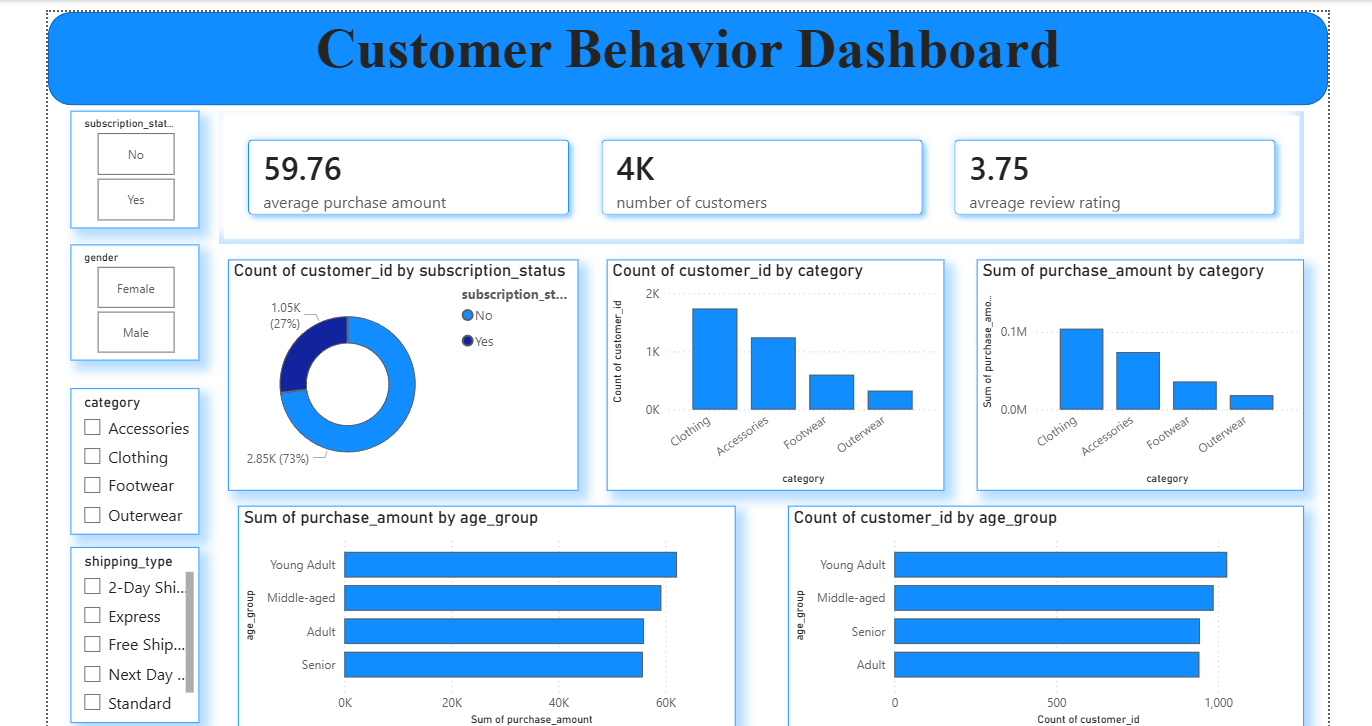

This screenshot's page, from the dashboard's own definition file:
{"tool":"powerbi","page":{"name":"Page 1","canvas":[1280,720],"ordinal":0},"visuals":[{"type":"cardVisual","fields":{"Data":["public customer.average purchase amount","public customer.number of customers","public customer.avreage review rating"]},"box":[171.2,98.8,1085,133.8],"z":0},{"type":"shape","box":[0,0,1280,93.3],"z":1000},{"type":"textbox","box":[0,0,1280,93.8],"z":2000},{"type":"donutChart","fields":{"Y":["CountNonNull(public customer.customer_id)"],"Category":["public customer.subscription_status"]},"box":[180,247.5,350,231.2],"z":3000},{"type":"clusteredColumnChart","fields":{"Category":["public customer.category"],"Y":["Sum(public customer.purchase_amount)"]},"box":[928.8,247.5,327.5,231.2],"z":4000},{"type":"clusteredColumnChart","fields":{"Category":["public customer.category"],"Y":["CountNonNull(public customer.customer_id)"]},"box":[558.8,247.5,337.5,231.2],"z":5000},{"type":"slicer","fields":{"Values":["public customer.subscription_status"]},"box":[22.5,98.8,128.8,117.5],"z":6000},{"type":"slicer","fields":{"Values":["public customer.gender"]},"box":[22.5,232.5,128.8,116.2],"z":7000},{"type":"slicer","fields":{"Values":["public customer.category"]},"box":[22.5,376.2,128.8,146.2],"z":8000},{"type":"slicer","fields":{"Values":["public customer.shipping_type"]},"box":[22.5,535,128.8,176.2],"z":9000},{"type":"clusteredBarChart","fields":{"Y":["Sum(public customer.purchase_amount)"],"Category":["public customer.age_group"]},"box":[190,493.8,497.5,226.2],"z":10000},{"type":"clusteredBarChart","fields":{"Category":["public customer.age_group"],"Y":["CountNonNull(public customer.customer_id)"]},"box":[740,493.8,516.2,226.2],"z":11000}]}

Visuals, with their boxes in screenshot pixels (x1, y1, x2, y2):
cardVisual - public customer.average purchase amount x public customer.number of customers: (220, 105, 1298, 238)
shape: (50, 7, 1322, 100)
textbox: (50, 7, 1322, 100)
donutChart - CountNonNull(public customer.customer_id) x public customer.subscription_status: (229, 253, 577, 483)
clusteredColumnChart - public customer.category x Sum(public customer.purchase_amount): (973, 253, 1298, 483)
clusteredColumnChart - public customer.category x CountNonNull(public customer.customer_id): (605, 253, 940, 483)
slicer - public customer.subscription_status: (72, 105, 200, 222)
slicer - public customer.gender: (72, 238, 200, 354)
slicer - public customer.category: (72, 381, 200, 526)
slicer - public customer.shipping_type: (72, 539, 200, 714)
clusteredBarChart - Sum(public customer.purchase_amount) x public customer.age_group: (239, 498, 733, 722)
clusteredBarChart - public customer.age_group x CountNonNull(public customer.customer_id): (785, 498, 1298, 722)
